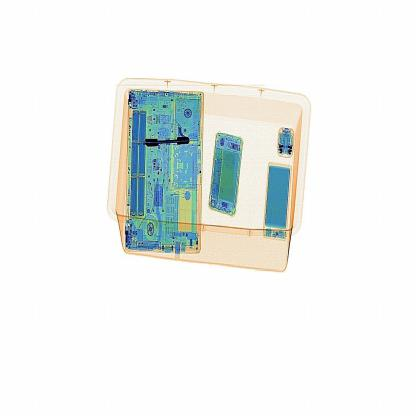knife: (137, 124, 201, 159)
